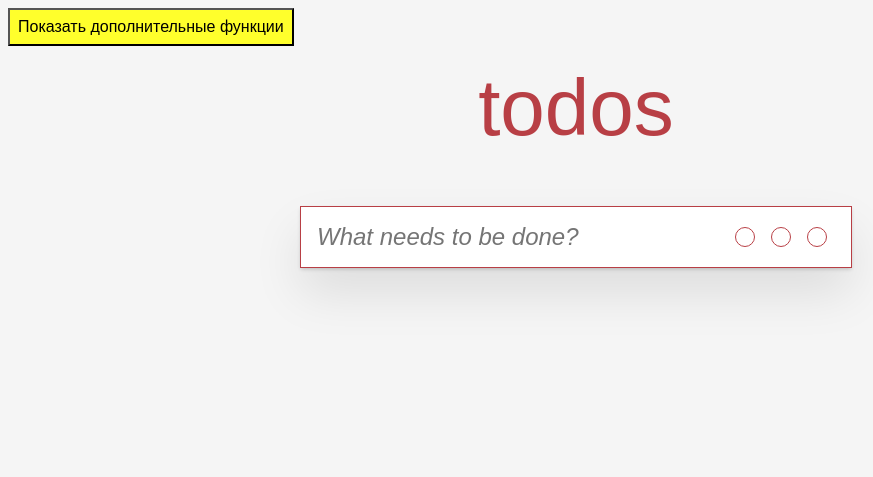
Test: Todo App › clears completed todos
The image size is (873, 477).
Type "Task 1" into the field with placeholder "What needs to be done?". click: point(507, 237)
box: [301,207,714,267]
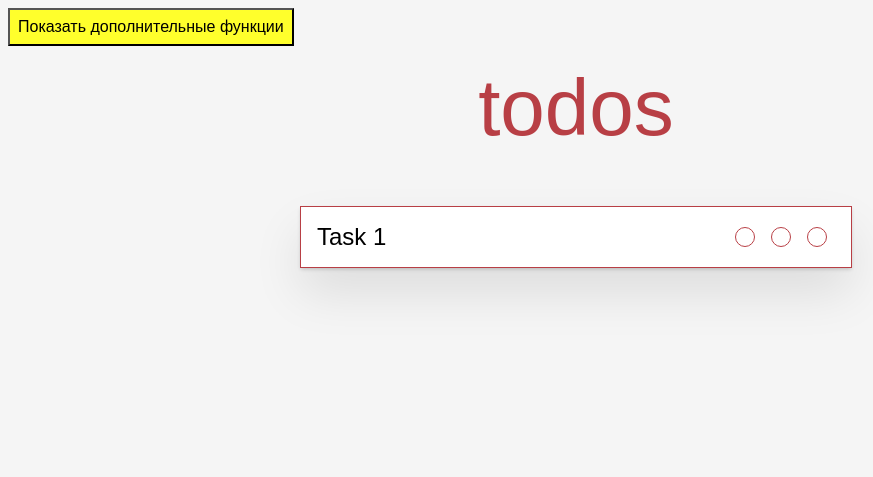
Submit the form with placeholder "What needs to be done?", box [301,207,851,267]
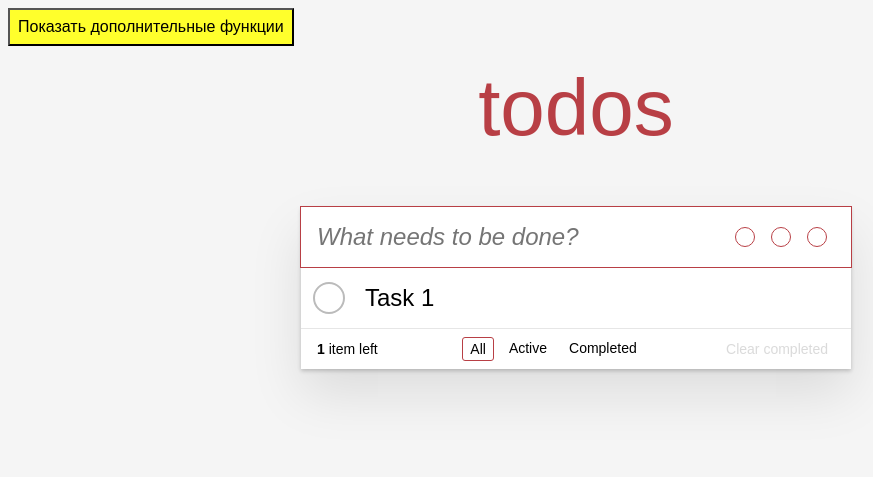
Type "Task 2" into the field with placeholder "What needs to be done?". click: point(507, 237)
box: [301,207,714,267]
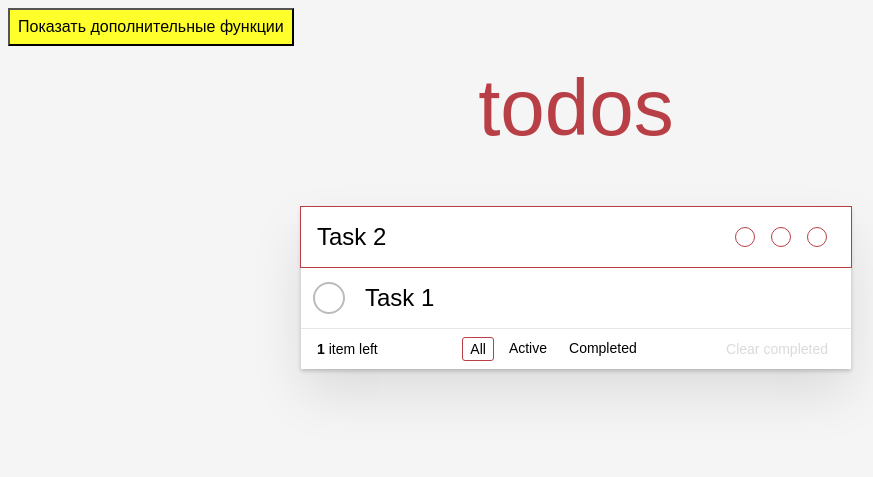
Submit the form with placeholder "What needs to be done?", box [301,207,851,267]
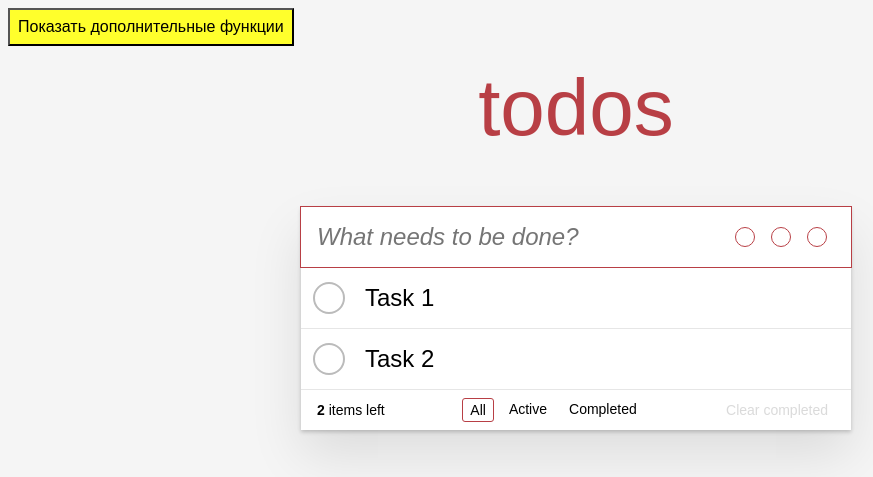
Click the checkbox next to "Task 1". click: point(329, 298)
box: [313,282,345,314]
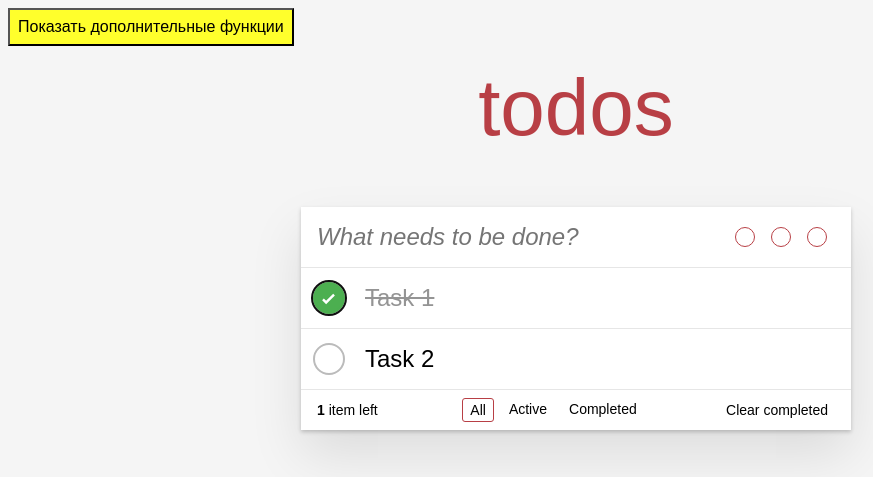
Click the button "Clear completed". click: point(777, 410)
box: [719,399,835,421]
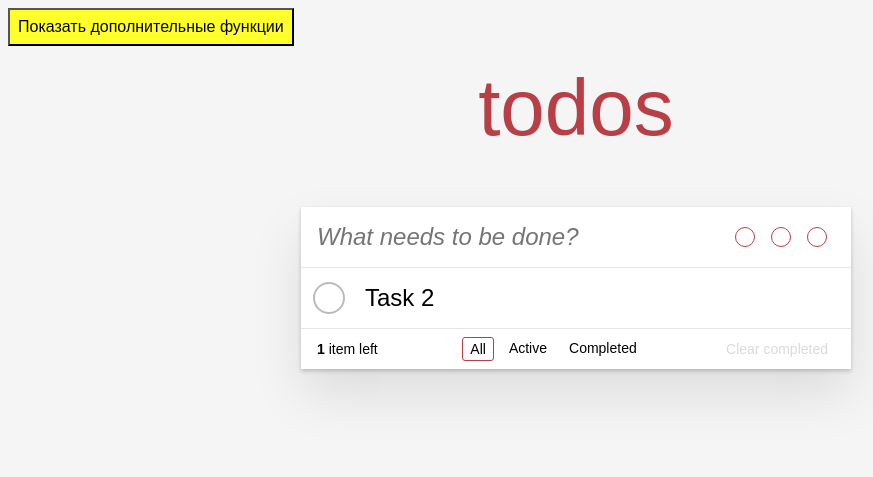
Now the text "Task 2" is shown, box [365,284,434,311]
Now the text "Task 1" is gone
